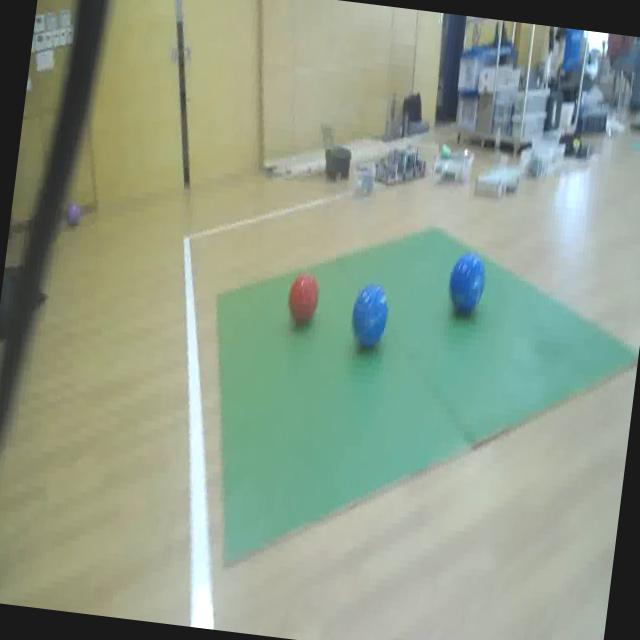blue_ball: (442, 247, 489, 320), (347, 282, 393, 349)
purple_ball: (63, 198, 84, 232)
red_ball: (282, 267, 322, 328)
